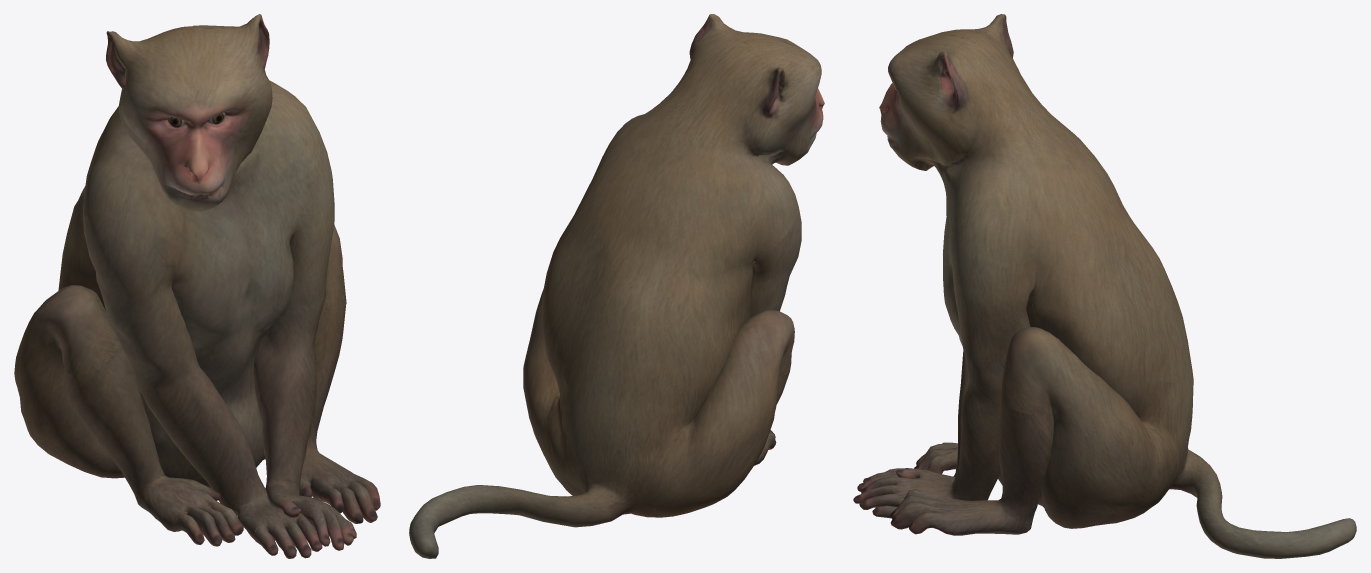
File: monkey.glb
3 views of the same model, side by side, from view 1: azimuth 30°, elevation 25°; view 2: azimuth 150°, elevation 25°; view 3: azimuth 270°, elevation 25° (orthographic). The views are drawn at different scales.
Visible parts, largest first — view 1: monkey_body; view 2: monkey_body; view 3: monkey_body.
Part boxes in pixels (bbox=[...]): monkey_body: bbox=[14, 14, 380, 558]; monkey_body: bbox=[409, 14, 824, 558]; monkey_body: bbox=[853, 14, 1356, 558].
Bounding box in the file's own units: 0.1692 × 0.2655 × 0.27.
1 material, 1 textured.
